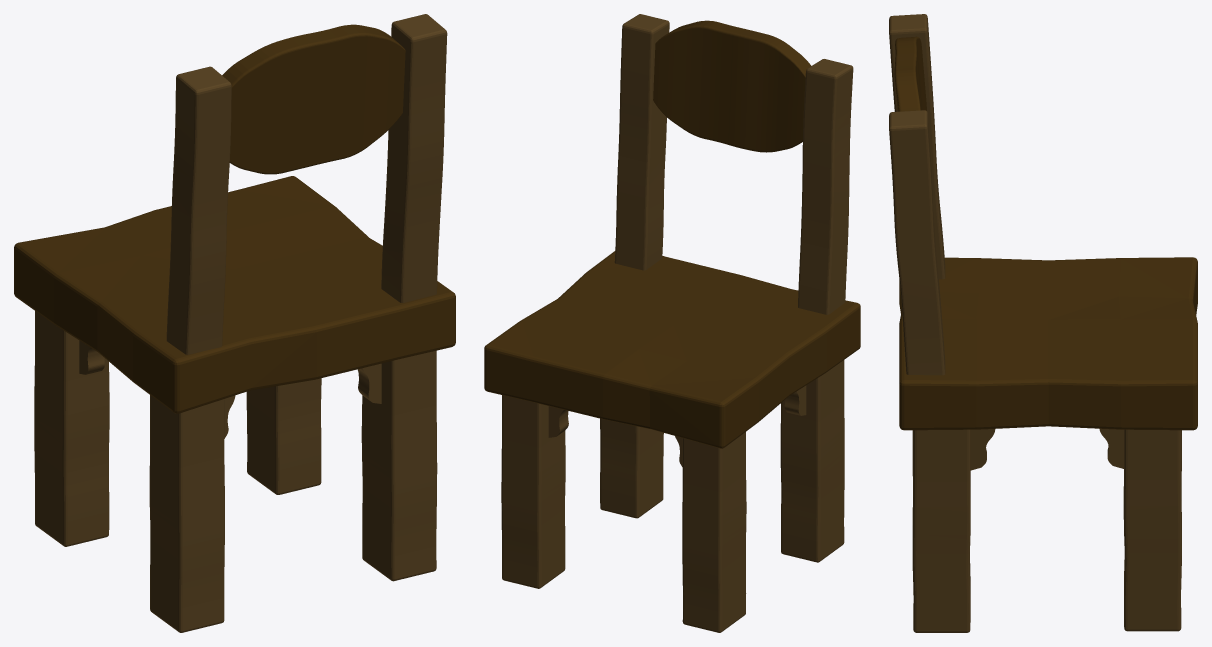
File: TI_Chair.obj
3 views of the same model, side by side, from view 1: azimuth 30°, elevation 25°; view 2: azimuth 150°, elevation 25°; view 3: azimuth 270°, elevation 25° (orthographic). The views are drawn at different scales.
Visible parts, largest first — view 1: Куб.018; view 2: Куб.018; view 3: Куб.018.
Part boxes in pixels (x1,y1,x2,y2): Куб.018: (14,14,455,632); Куб.018: (484,14,860,632); Куб.018: (889,14,1197,632).
Bounding box in the file's own units: 2.27 × 4.37 × 2.35.
1 material, 1 textured.
